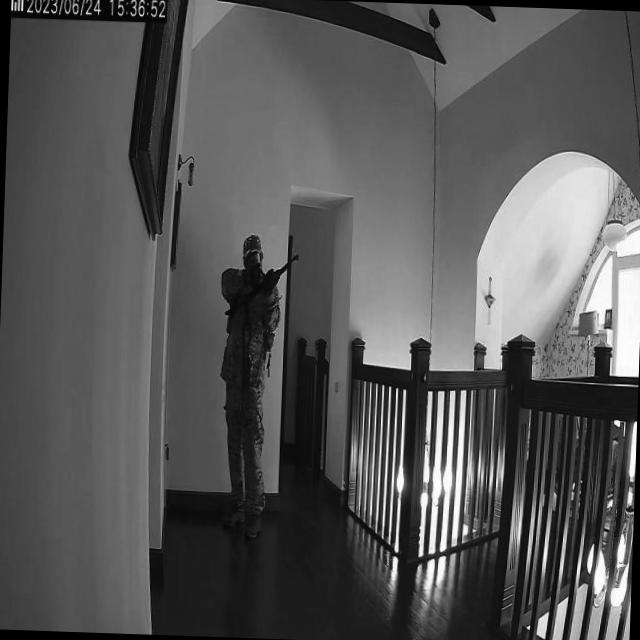gun: (224, 246, 301, 303)
person with a gun: (209, 230, 280, 542)
